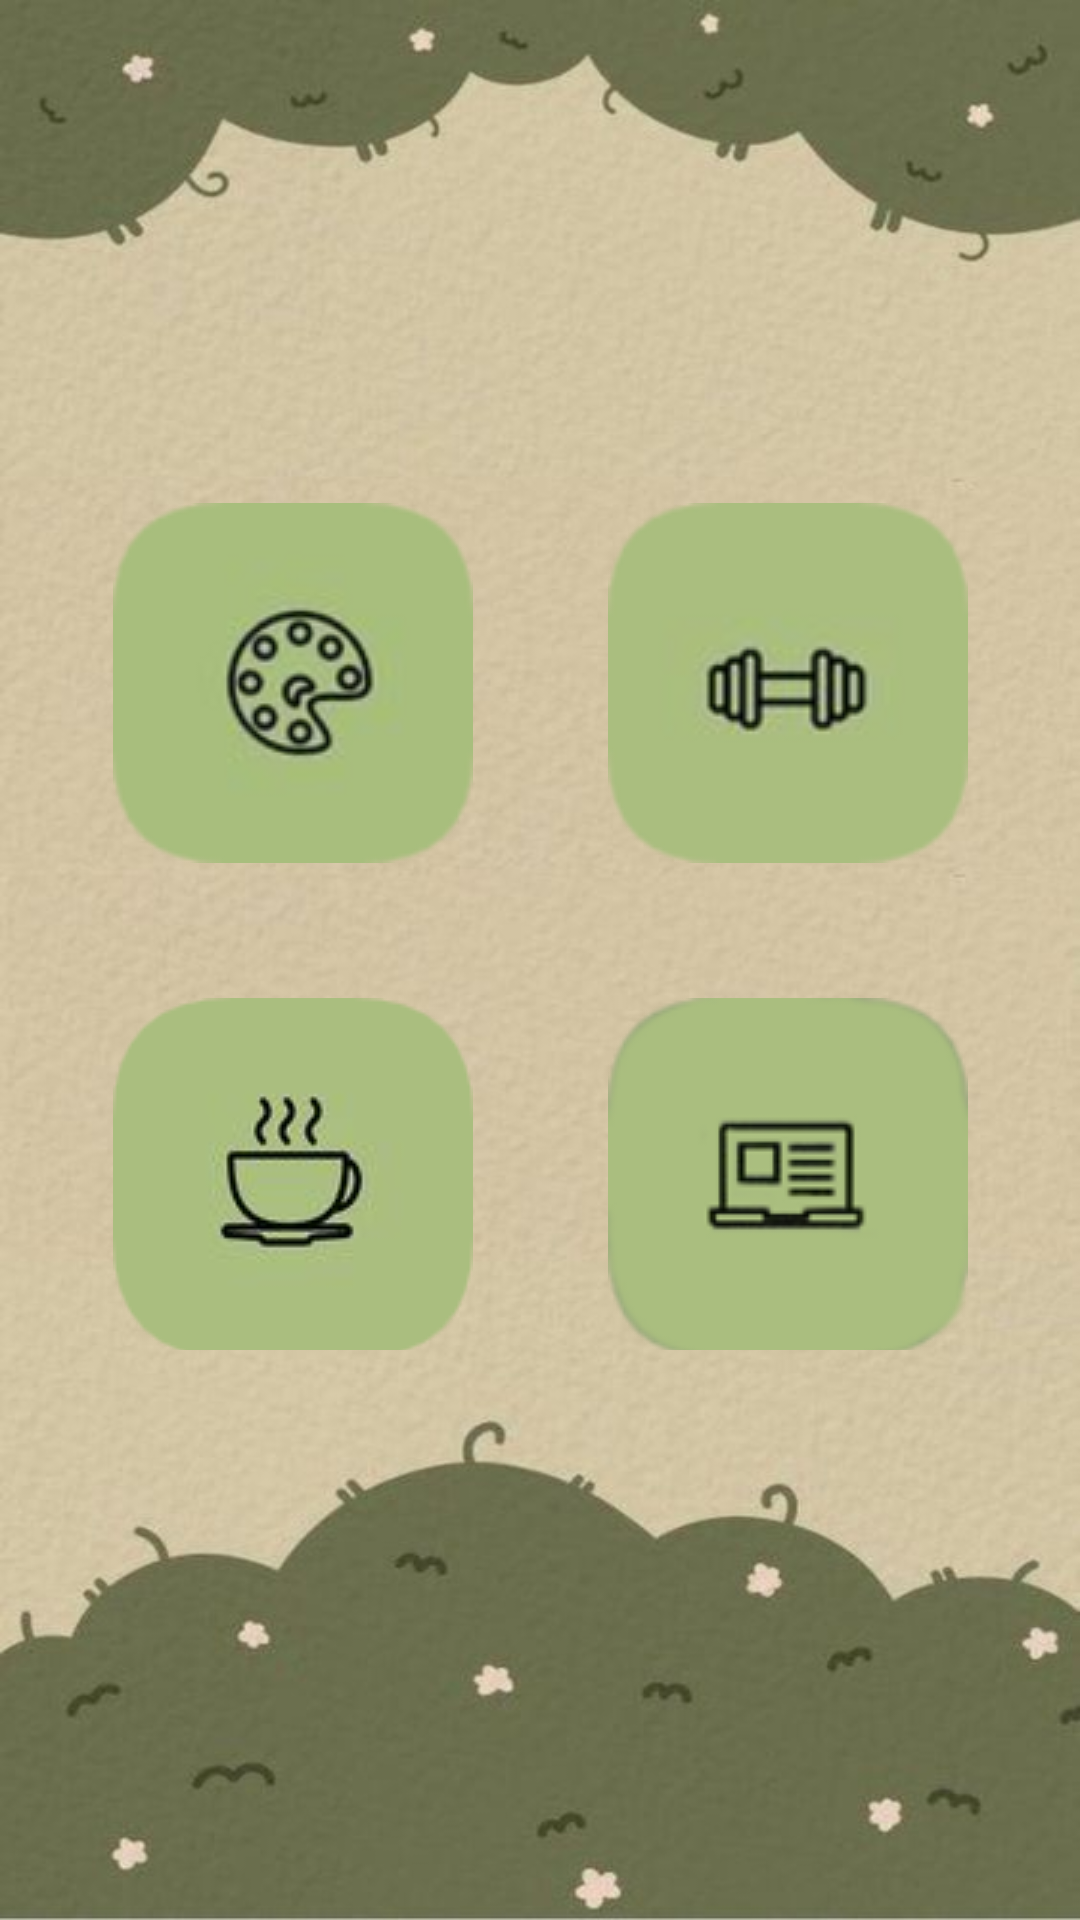

Screen size 1080×1920. Icon name, then its center in pixels as point (x, y):
hobby: point (293, 683)
lesson: point (788, 1174)
sport: point (788, 683)
